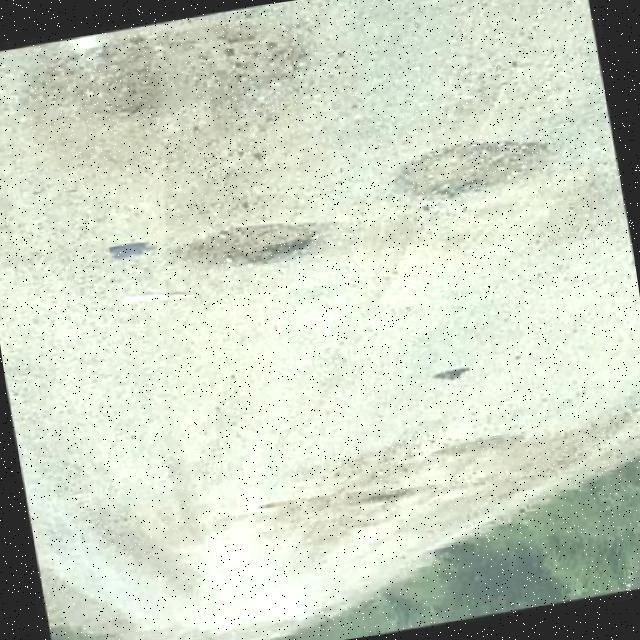Pothole: (38, 12, 310, 115), (399, 139, 549, 200), (169, 219, 319, 266)
